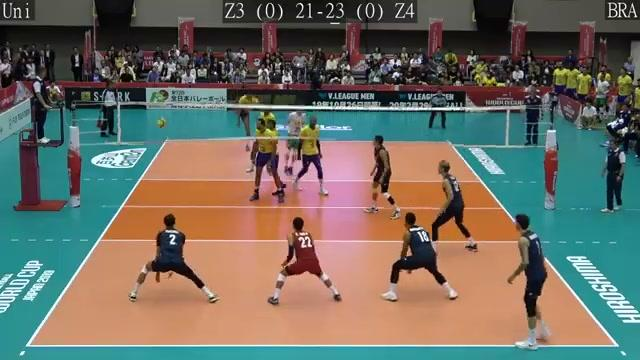ball: (155, 115, 169, 129)
